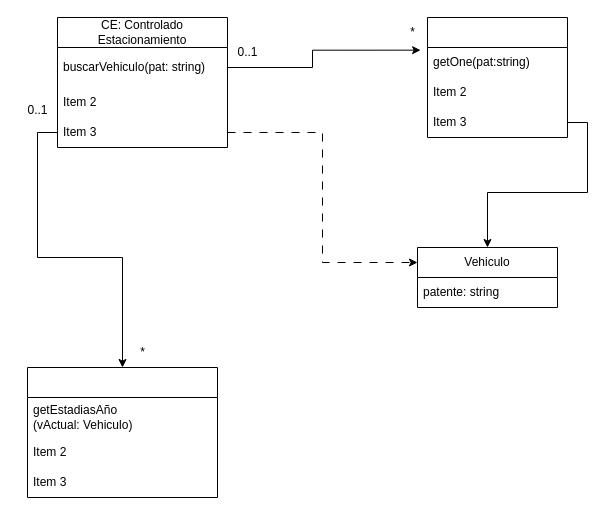
Some shapes in this 613 by 515 pixel diagram are drawn without their labels. The shapes that lost their labels are listed below. From the top down, each one's box as (x1, y1, x2, y2) in pixels, then its label:
(426, 16, 568, 138): <<repository>> VDAO: Vehiculos DAO
(26, 366, 218, 498): <<repository>> EDAO: Estadias DAO
